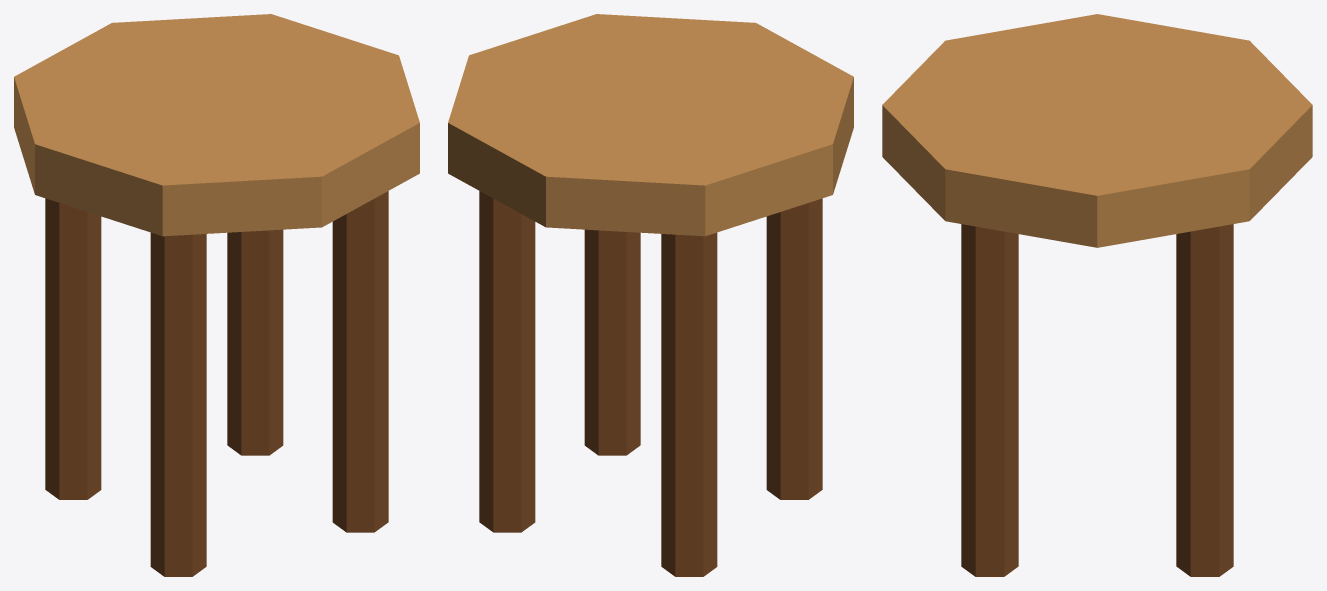
Rendered from stool.glb.
3 renders of one model, left to right at view 1: azimuth 30°, elevation 25°; view 2: azimuth 150°, elevation 25°; view 3: azimuth 270°, elevation 25°, orthographic. The views are drawn at different scales.
Visible parts, largest first — view 1: stool; view 2: stool; view 3: stool.
Boxes of the visible parts, x1,y1,x2,y2 form: stool: [14, 14, 419, 576]; stool: [448, 14, 853, 576]; stool: [882, 14, 1312, 576].
Bounding box in the file's own units: 0.6 × 0.64 × 0.6.
